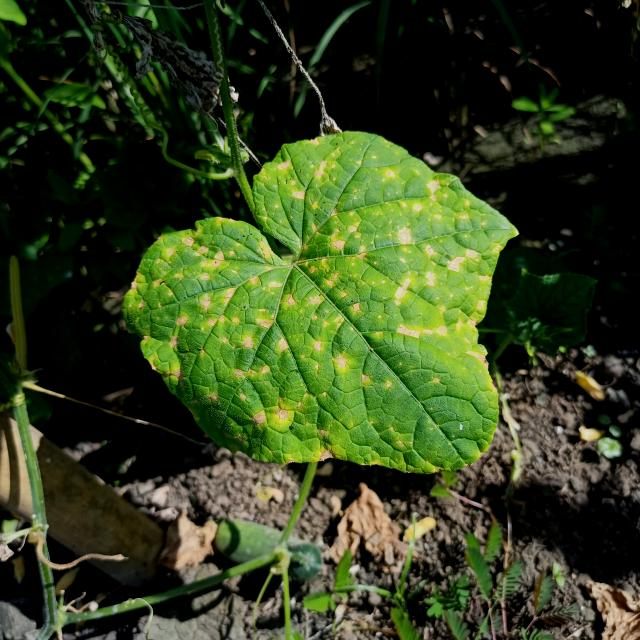disease_cucumber: (123, 144, 509, 470)
